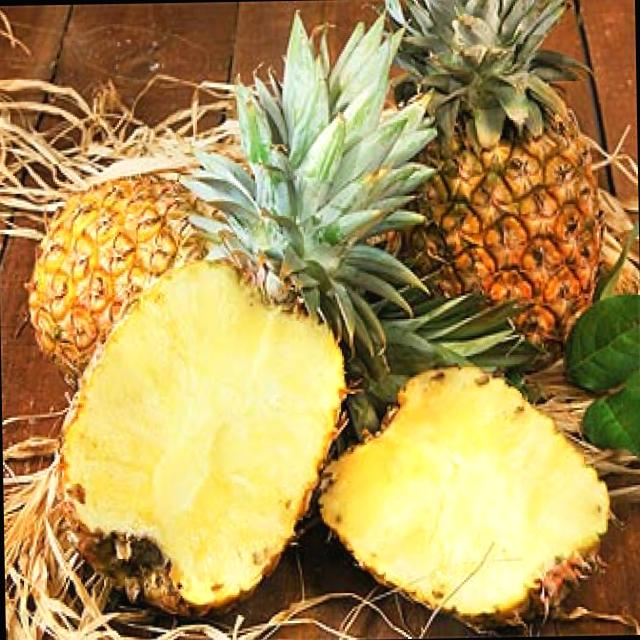pineapple: (47, 154, 379, 626), (384, 49, 616, 369)
